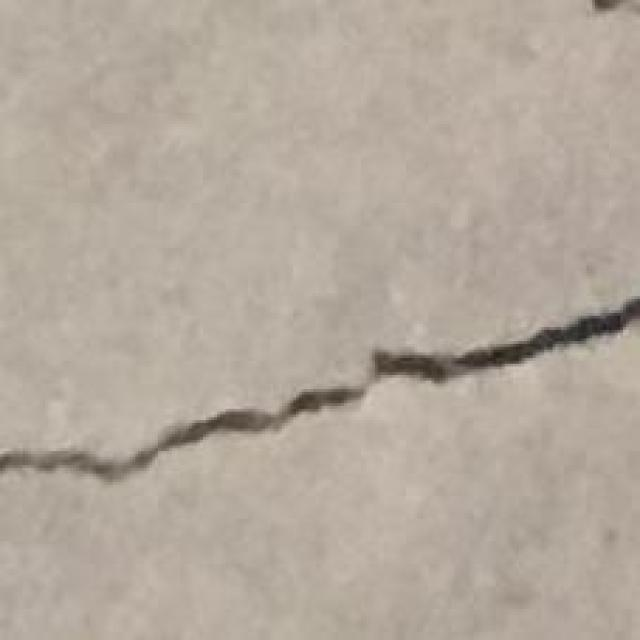horizontal crack: (0, 296, 639, 481)
